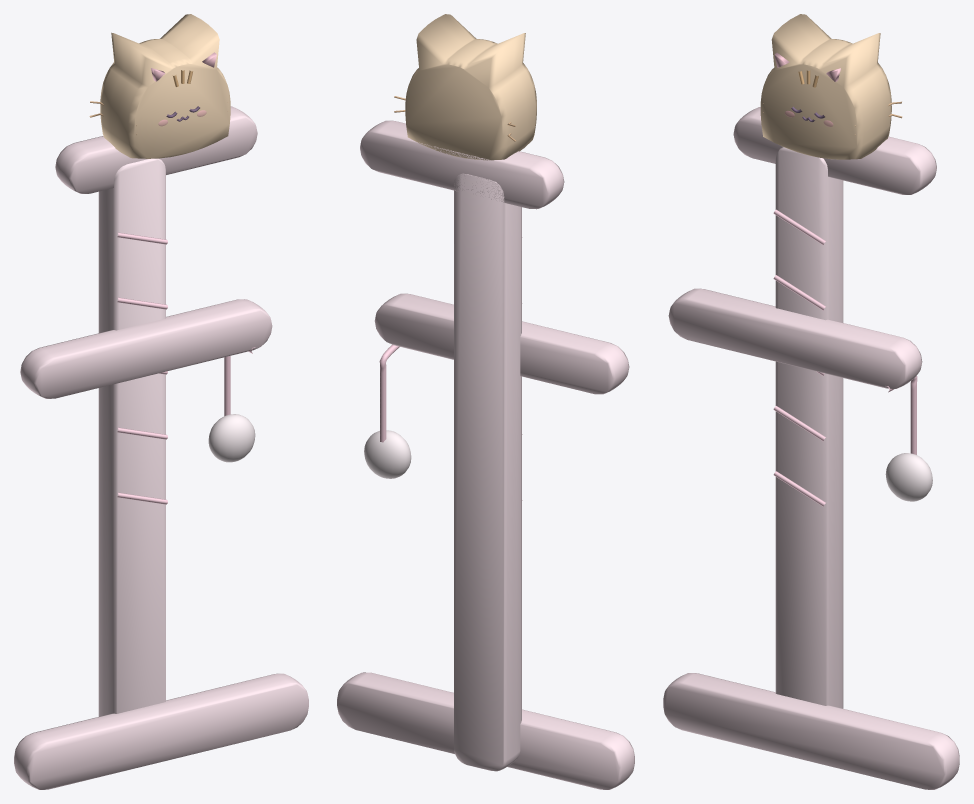
File: decor_1_candy.glb
The picture shows the model from 3 angles, left to right: view 1: azimuth 30°, elevation 25°; view 2: azimuth 150°, elevation 25°; view 3: azimuth 330°, elevation 25°; orthographic projection.
Parts seen in each view (by area): view 1: decor_1_candy; view 2: decor_1_candy; view 3: decor_1_candy.
Boxes of the visible parts, box(x1,y1,x2,y2) form: decor_1_candy: box(14, 14, 308, 789); decor_1_candy: box(337, 14, 634, 789); decor_1_candy: box(663, 14, 959, 789).
Size of the model in its own units: 9.1 by 22.09 by 2.07.
